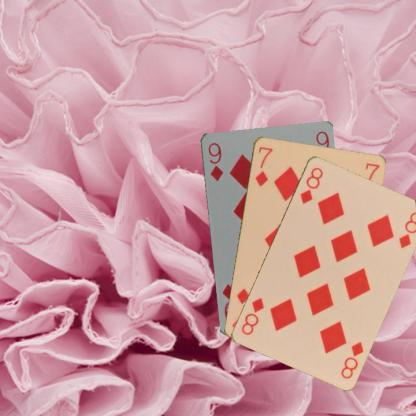7d: (252, 144, 274, 188)
8d: (297, 164, 324, 205), (338, 339, 365, 380)
9d: (205, 140, 224, 182)
